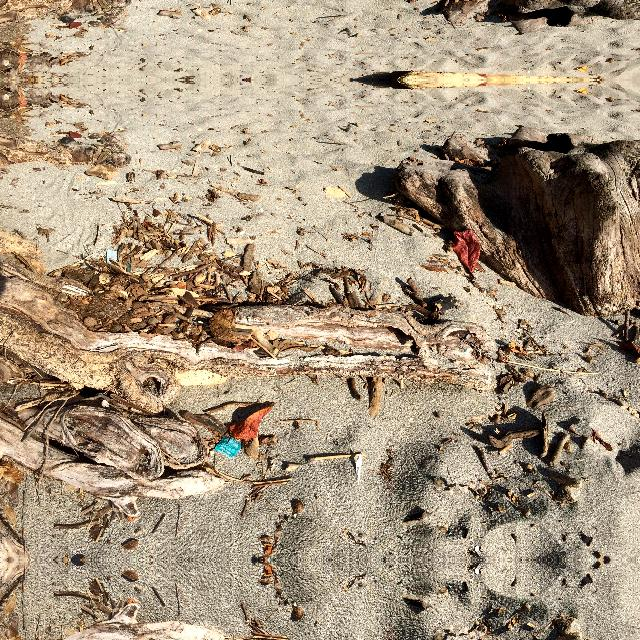Plastic: (210, 434, 243, 461)
